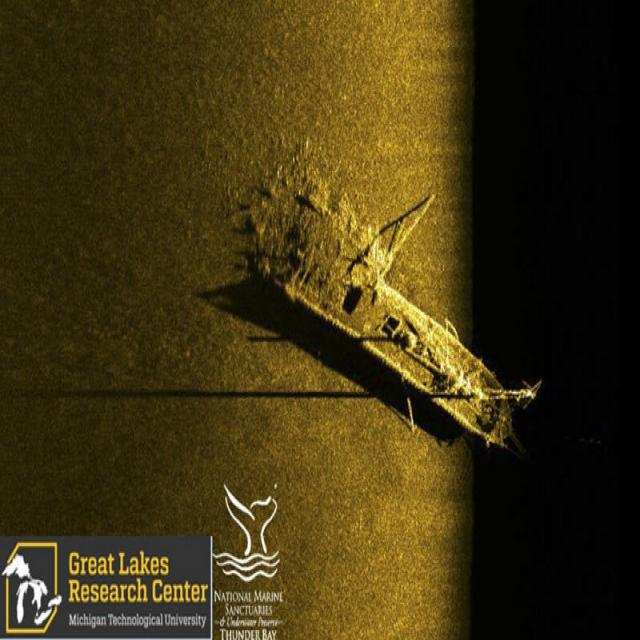ship: (242, 167, 544, 459)
